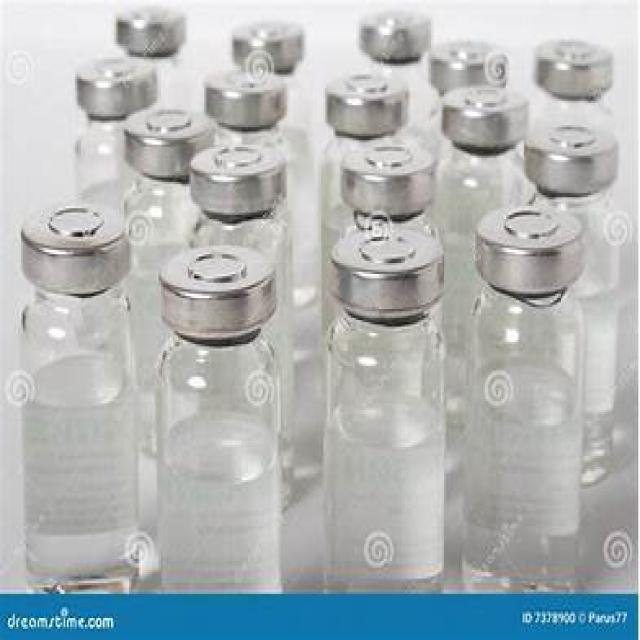vial: (164, 242, 278, 304), (341, 229, 437, 290), (30, 207, 119, 264), (485, 202, 573, 259), (198, 149, 293, 201), (323, 83, 418, 133), (423, 47, 518, 96), (531, 121, 608, 180), (437, 87, 523, 139), (350, 147, 447, 192), (70, 56, 154, 106), (538, 40, 612, 94), (128, 113, 210, 159), (232, 31, 318, 72), (364, 19, 438, 66), (118, 13, 182, 55), (210, 82, 291, 111)
